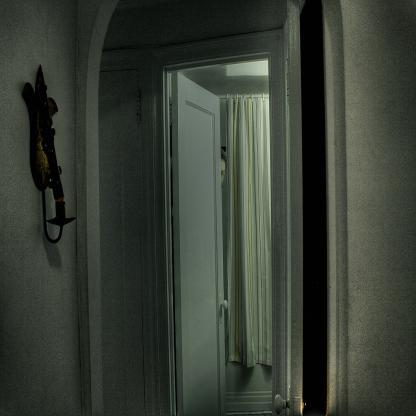door: (169, 70, 227, 415), (275, 0, 308, 415)
knob: (273, 389, 290, 415), (220, 294, 229, 314)
